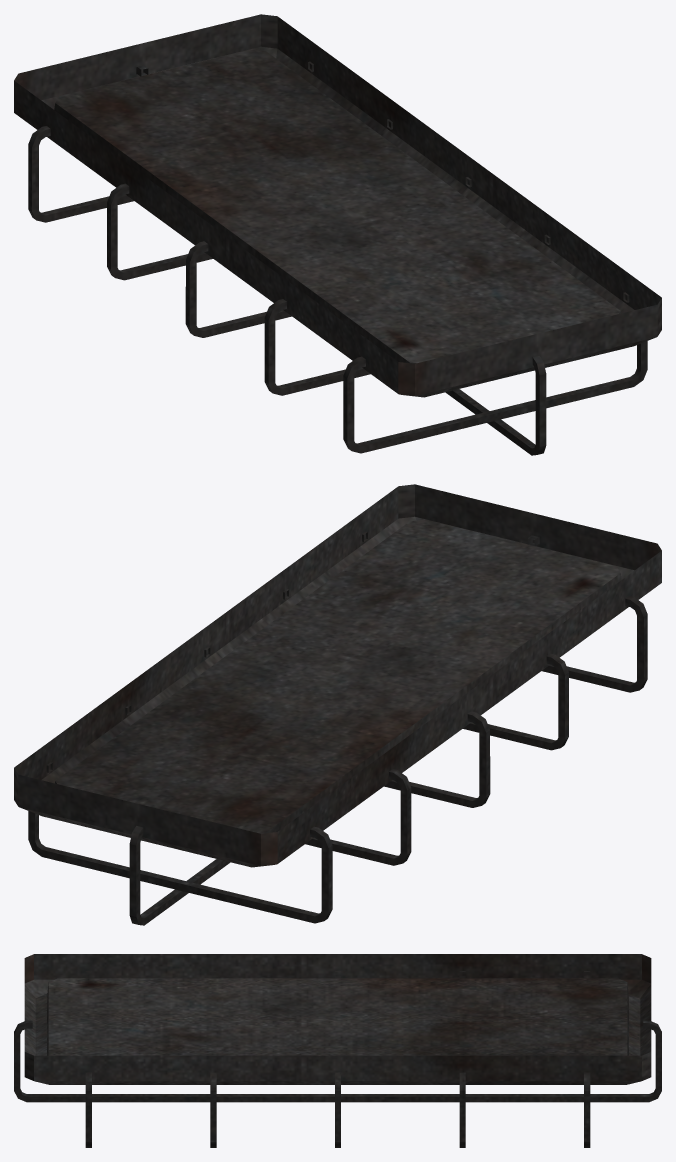
The model's file is ceiling_lamp_2_off.fbx.
3 renders of one model, top to bottom at view 1: azimuth 30°, elevation 25°; view 2: azimuth 150°, elevation 25°; view 3: azimuth 270°, elevation 25°, orthographic. The views are drawn at different scales.
Parts seen in each view (by area): view 1: ceiling_lamp_2_off, ceiling_lamp_2_off_protector; view 2: ceiling_lamp_2_off, ceiling_lamp_2_off_protector; view 3: ceiling_lamp_2_off, ceiling_lamp_2_off_protector.
Part boxes in pixels (box(x1,y1,x2,y2)): ceiling_lamp_2_off: box(14, 14, 661, 397); ceiling_lamp_2_off_protector: box(28, 61, 647, 455); ceiling_lamp_2_off: box(14, 484, 661, 867); ceiling_lamp_2_off_protector: box(28, 531, 647, 925); ceiling_lamp_2_off: box(24, 954, 651, 1084); ceiling_lamp_2_off_protector: box(14, 971, 661, 1147).
Size of the model in its own units: 0.44 by 0.17 by 1.04.
3 materials, 3 textured.
